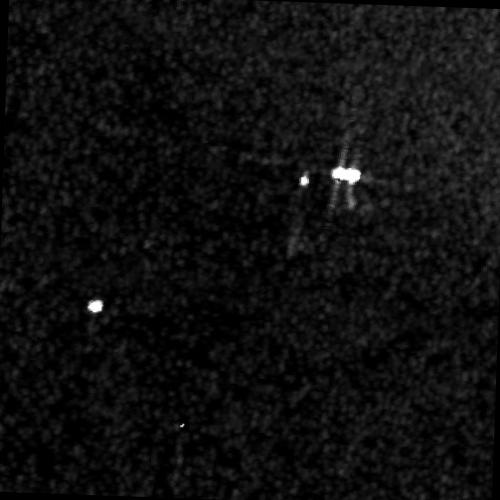ship: (330, 164, 361, 184), (87, 298, 104, 313)
